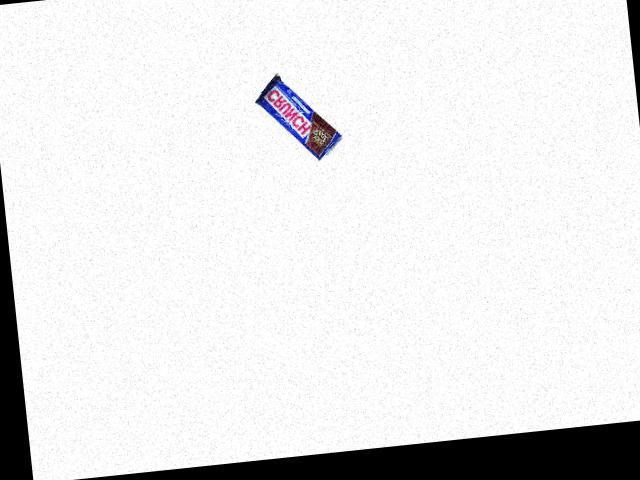chocolate: (251, 66, 346, 168)
